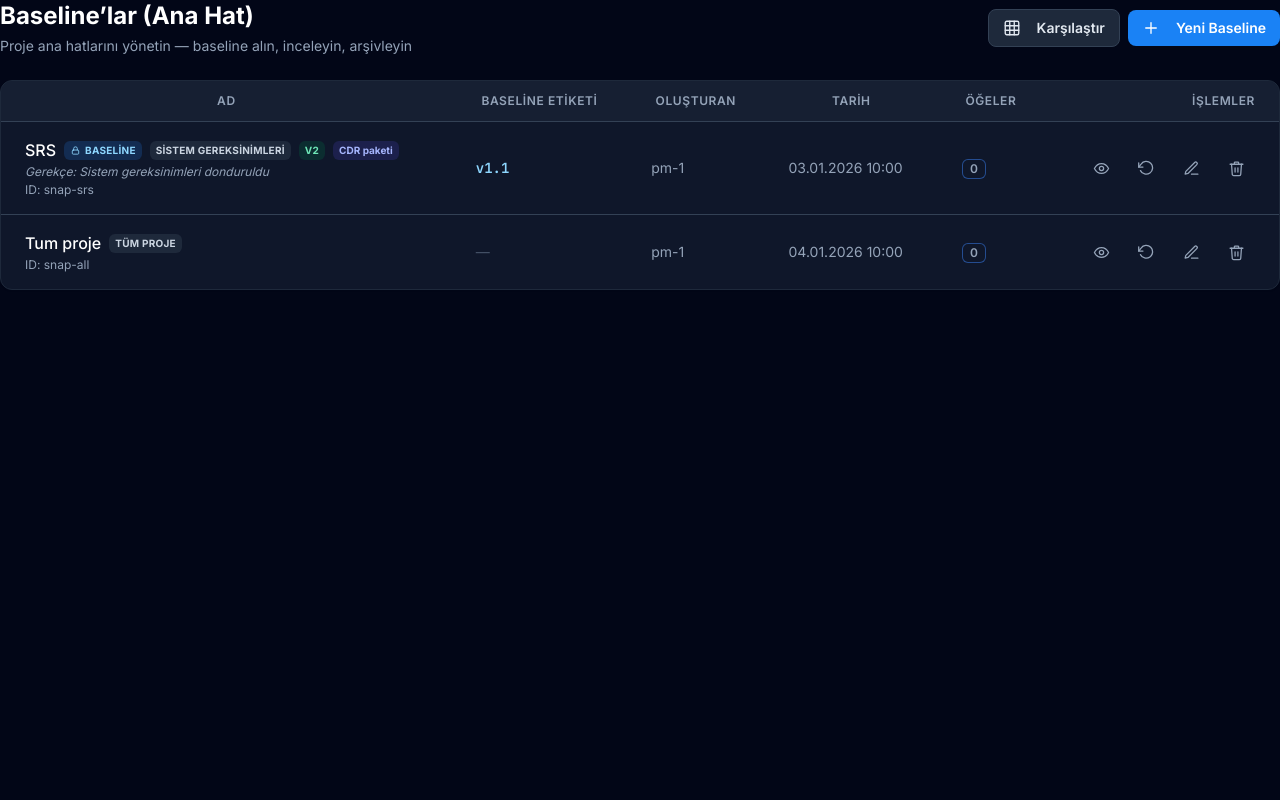
Test case: Baseline kapsami — secim › modul kapsamina gecilince modul listesi acilir
Click the button with test id "snapshot-new".
click(1204, 28)  # box [1128,10,1279,46]
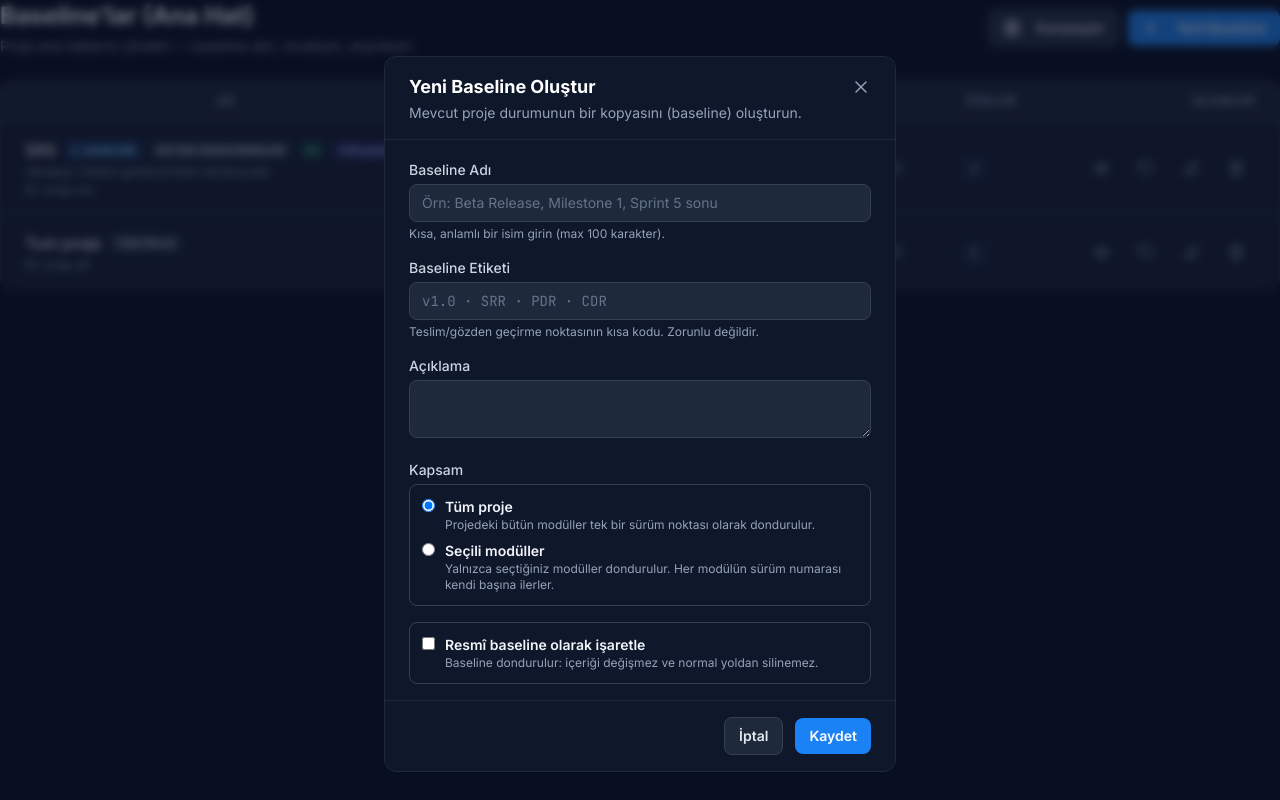
Click the radio button with test id "scope-module".
click(428, 550)  # box [422,543,435,556]
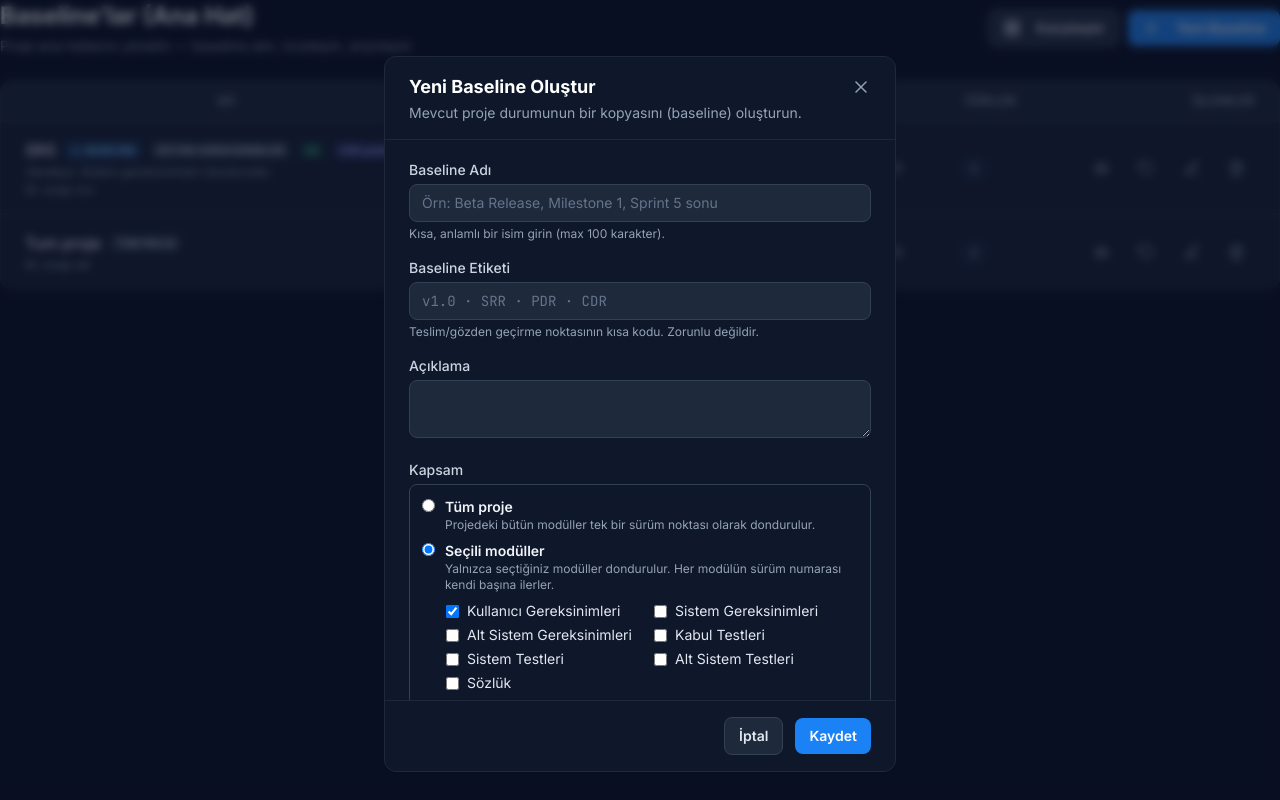
Expected: the element with test id "scope-module-list" is shown, [446,601,858,693]
Expected: the checkbox with test id "scope-module-req-user" is checked, [446,604,459,618]
